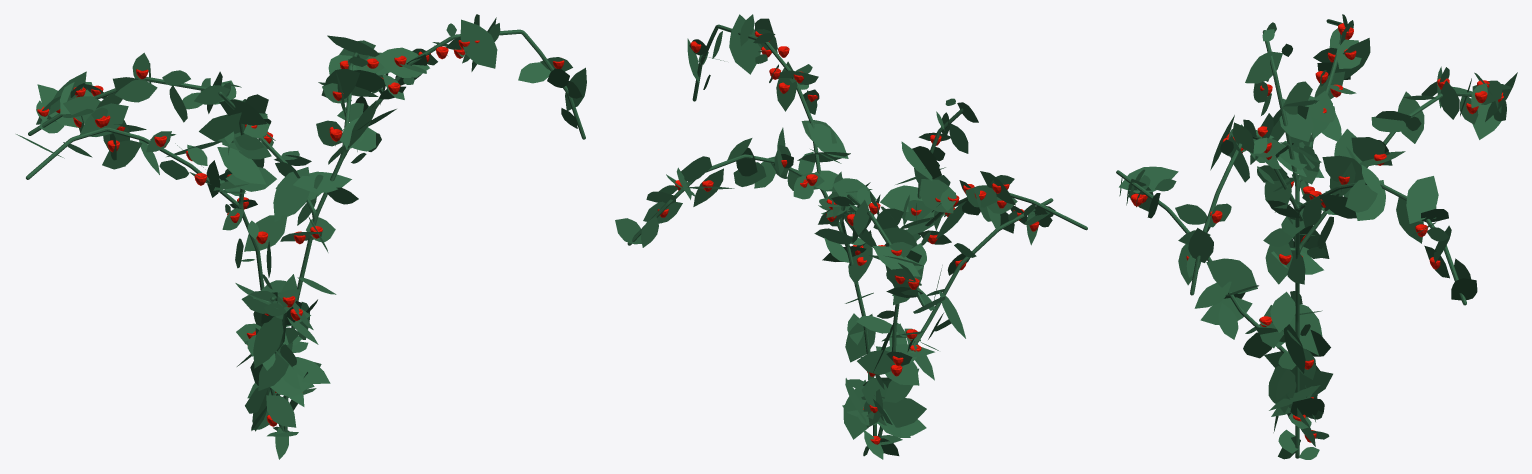
The model's file is mod_vg_framboisierM.fbx.
3 renders of one model, left to right at view 1: azimuth 30°, elevation 25°; view 2: azimuth 150°, elevation 25°; view 3: azimuth 270°, elevation 25°, orthographic. The views are drawn at different scales.
Parts seen in each view (by area): view 1: Framboisier; view 2: Framboisier; view 3: Framboisier.
Part boxes in pixels (box(x1,y1,x2,y2)): Framboisier: box(16, 14, 586, 459); Framboisier: box(615, 14, 1087, 459); Framboisier: box(1116, 14, 1517, 459).
Size of the model in its own units: 265 by 213 by 183.
